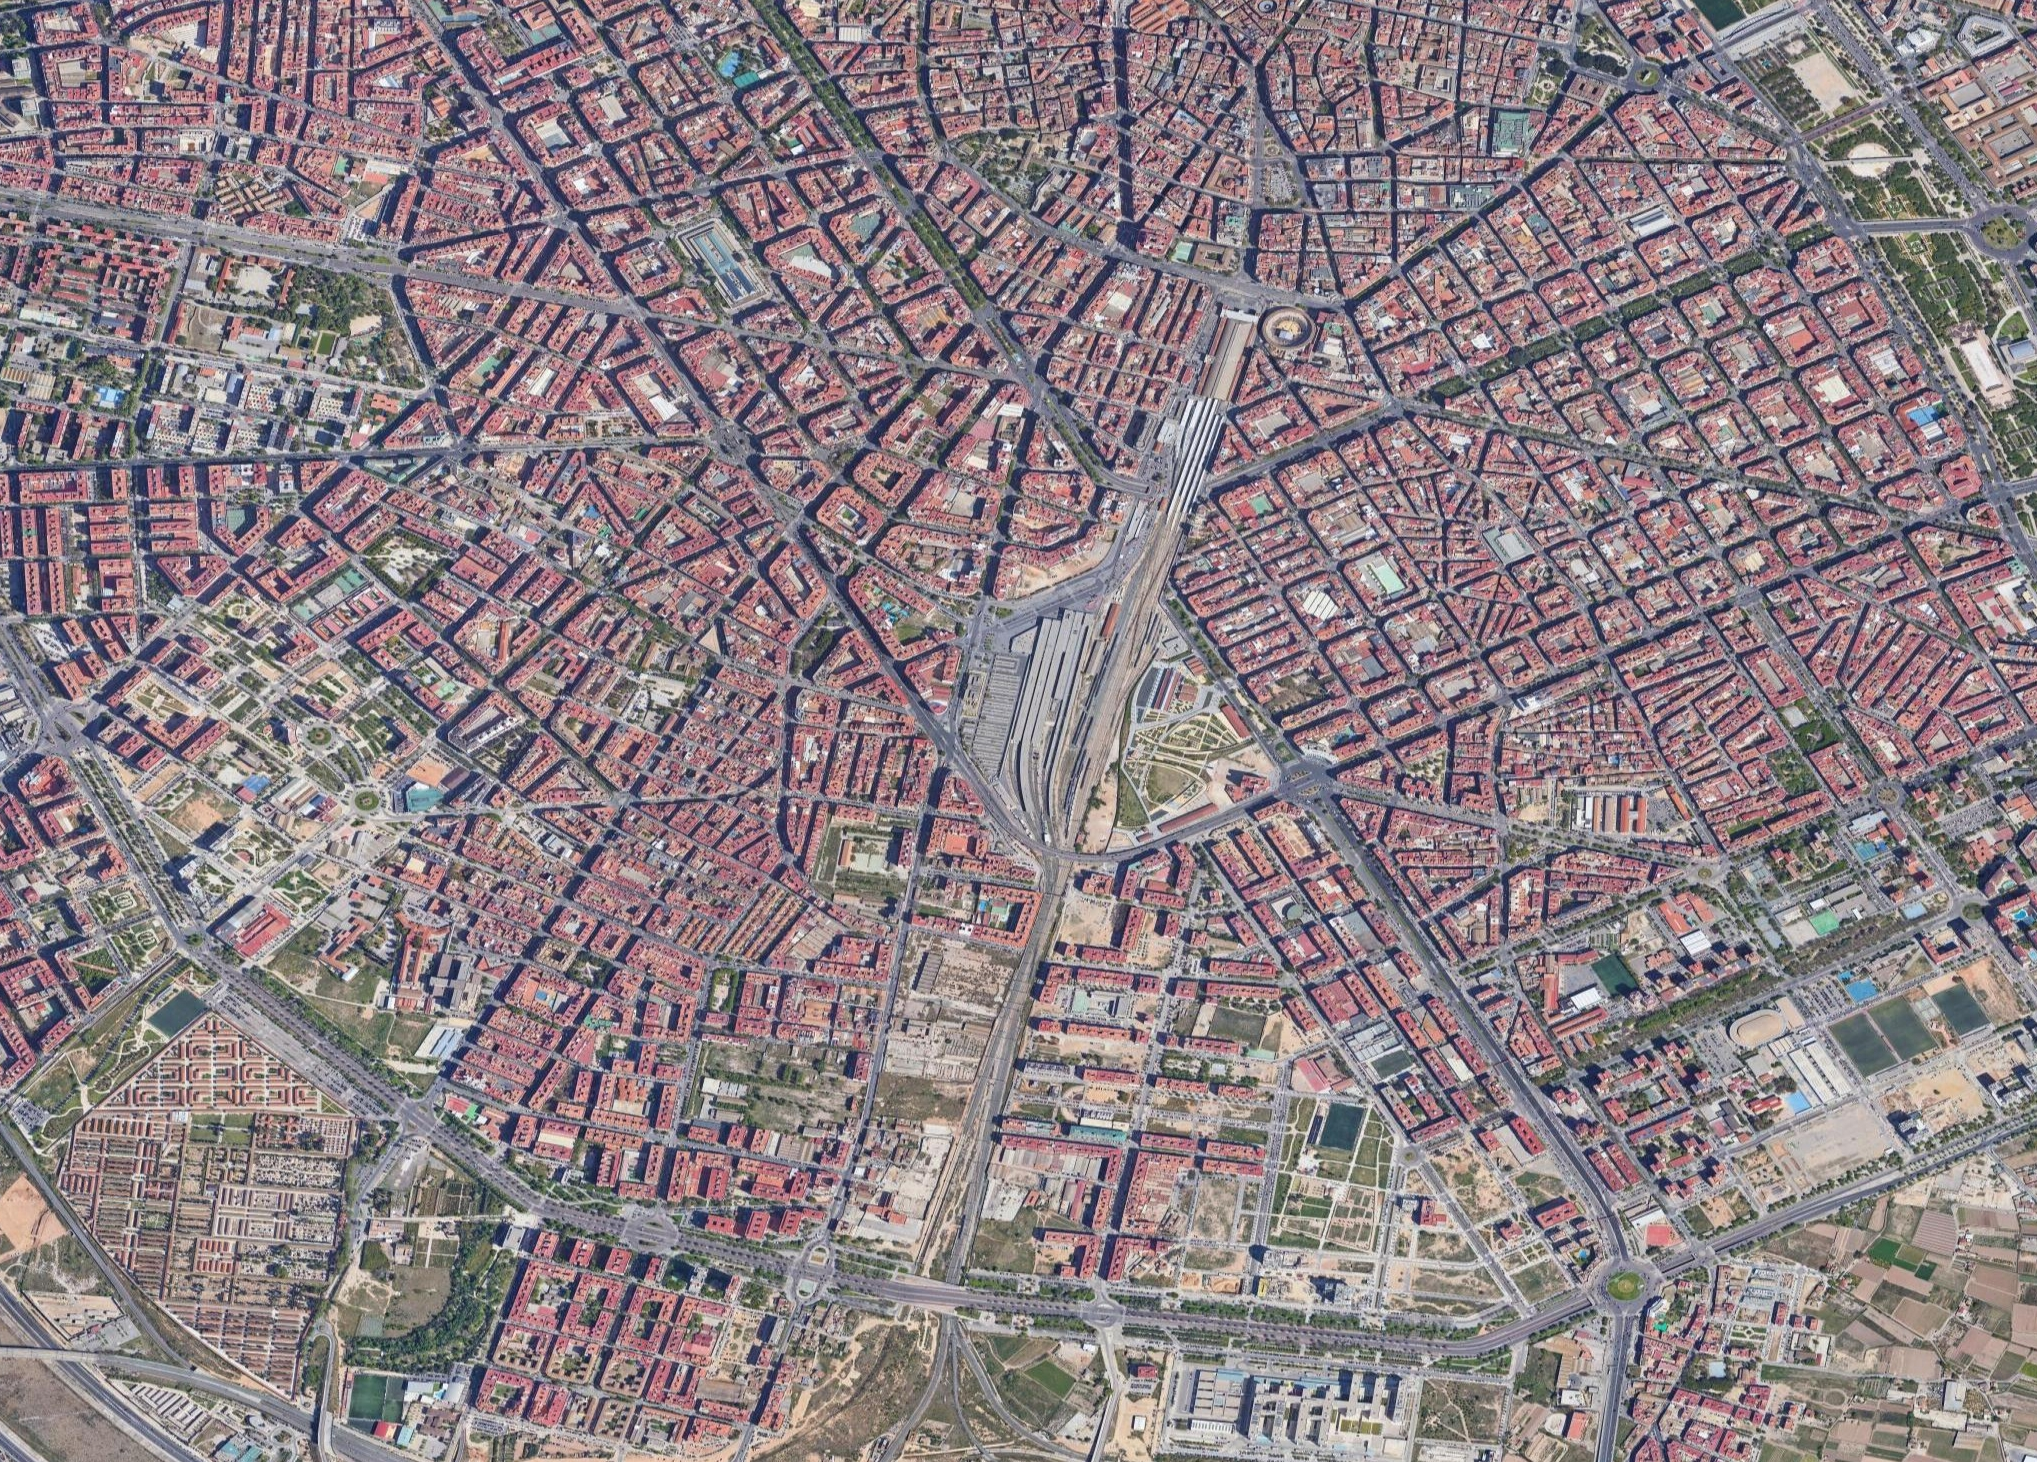bridge: (307, 1403, 335, 1457)
train_station: (969, 579, 1185, 843)
